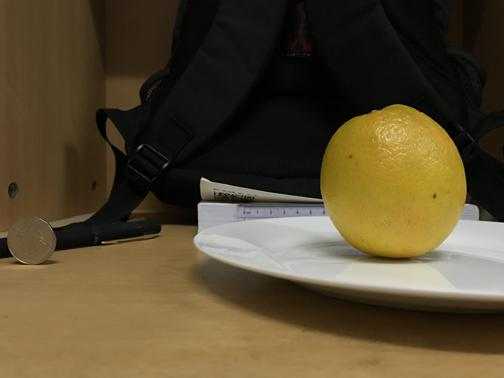coin: (8, 216, 55, 265)
orange: (319, 101, 468, 257)
